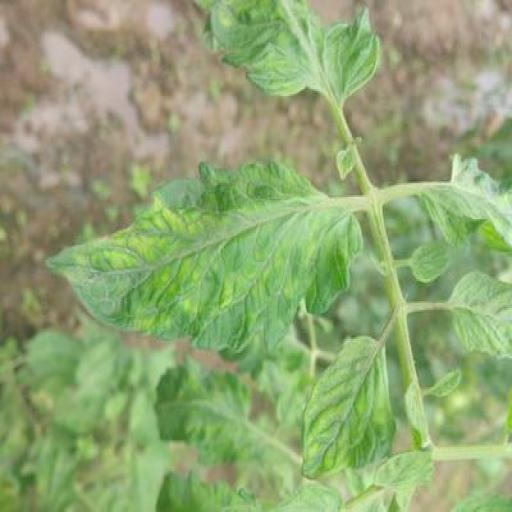Mosaic Virus: (42, 154, 370, 358), (183, 0, 383, 102), (294, 320, 400, 482)
